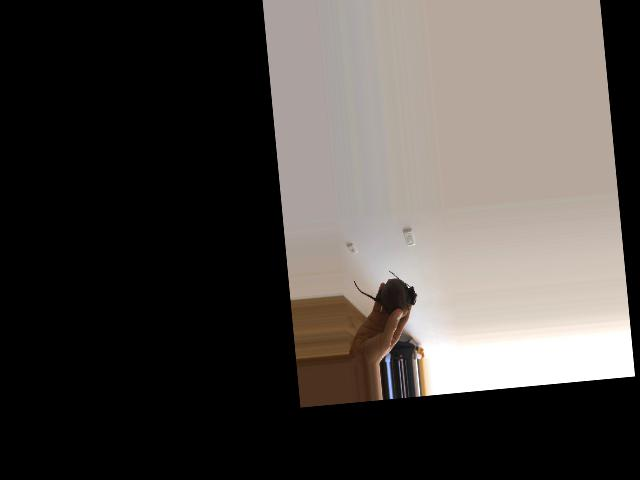beet: (353, 267, 419, 321)
